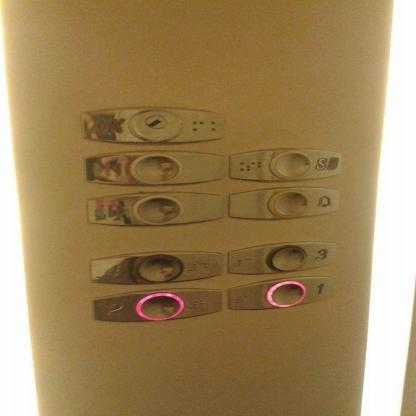1: (225, 275, 336, 310)
2: (91, 288, 225, 322)
3: (227, 241, 338, 275)
4: (88, 250, 226, 284)
SB: (227, 147, 342, 181)
alarm: (227, 187, 340, 221)
bt_keyhole: (76, 105, 225, 142)
close: (84, 151, 224, 185)
open: (83, 190, 225, 227)
